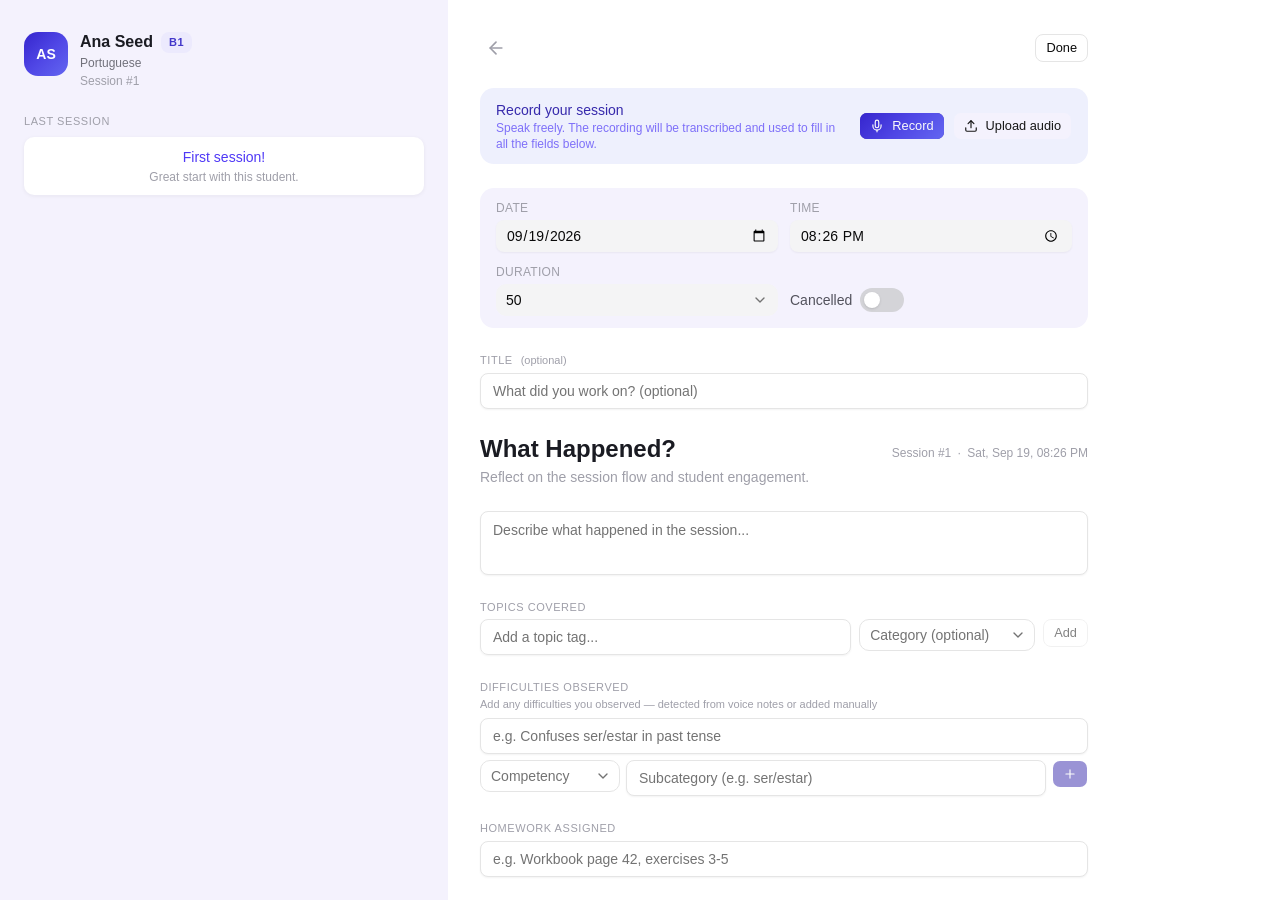
Scenario: LogSession › hides form fields when cancelled toggle is clicked
expect the text box with test id "actual-content" is shown: met, box [480,510,1088,574]
What coordinates should you click on to do the following:
click the switch with test id "cancelled-toggle"
I would click on:
 (882, 300)
Its box is [860,288,904,312].
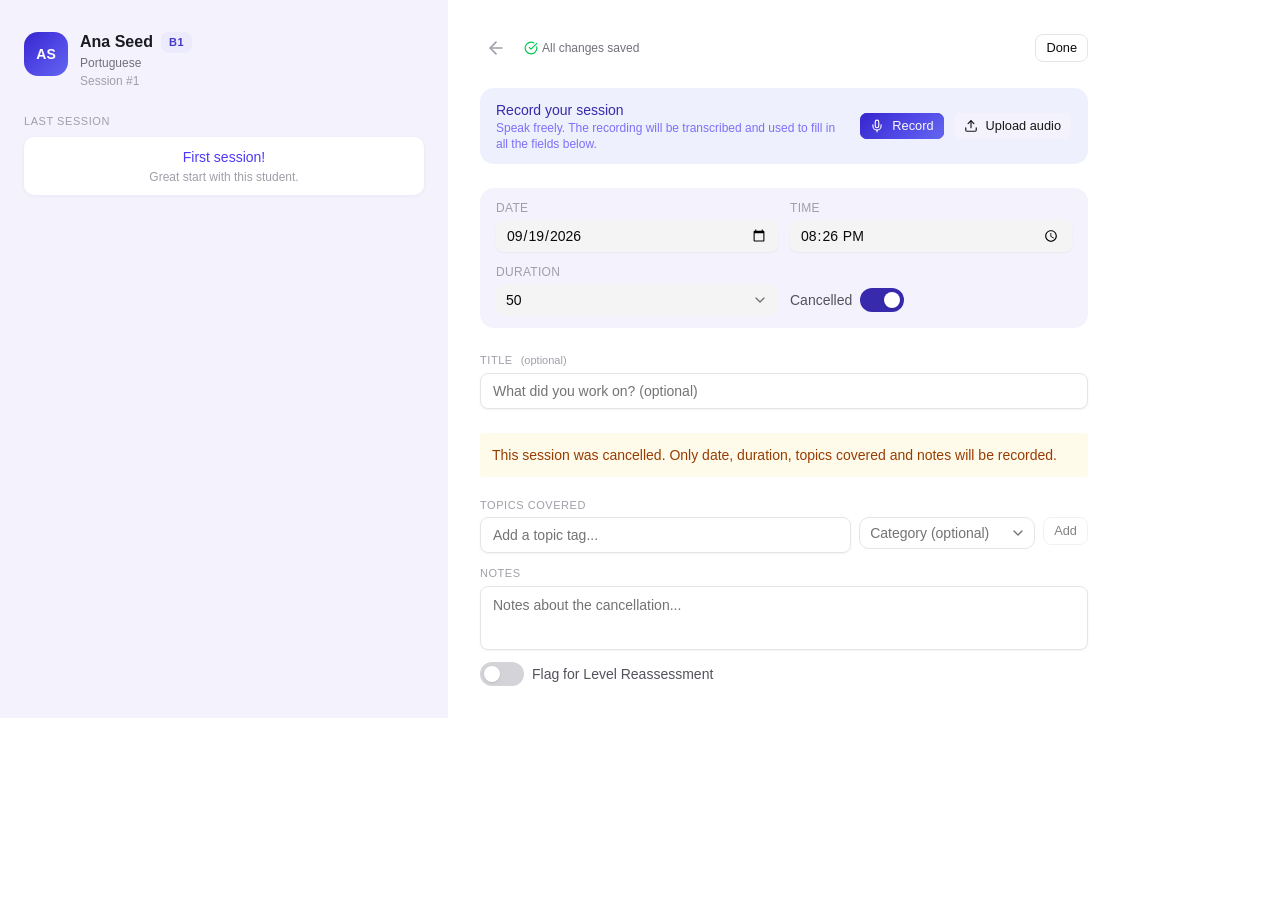
expect the text box with test id "actual-content" is gone: met
